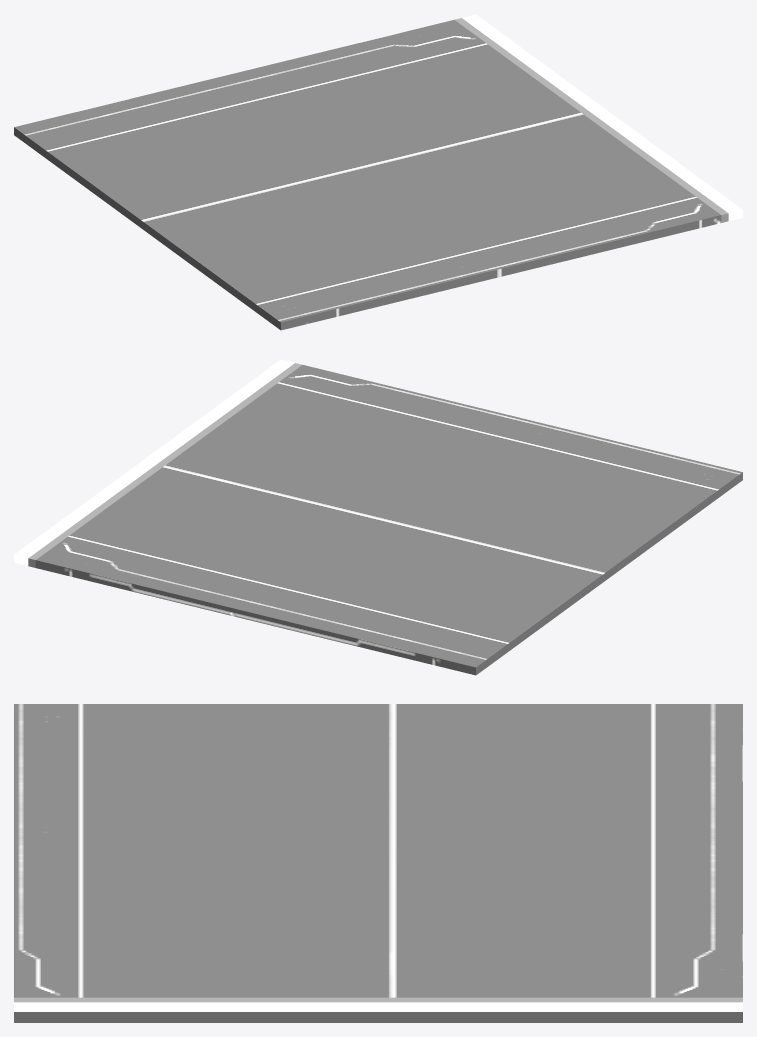
File: Floor4.fbx
The picture shows the model from 3 angles, top to bottom: view 1: azimuth 30°, elevation 25°; view 2: azimuth 150°, elevation 25°; view 3: azimuth 270°, elevation 25°; orthographic projection. The views are drawn at different scales.
Visible parts, largest first — view 1: Floor1.002; view 2: Floor1.002; view 3: Floor1.002.
Boxes of the visible parts, x1,y1,x2,y2 form: Floor1.002: (14, 14, 742, 330); Floor1.002: (14, 359, 742, 675); Floor1.002: (14, 704, 742, 1022).
Bounding box in the file's own units: 797 × 13.1 × 797.
